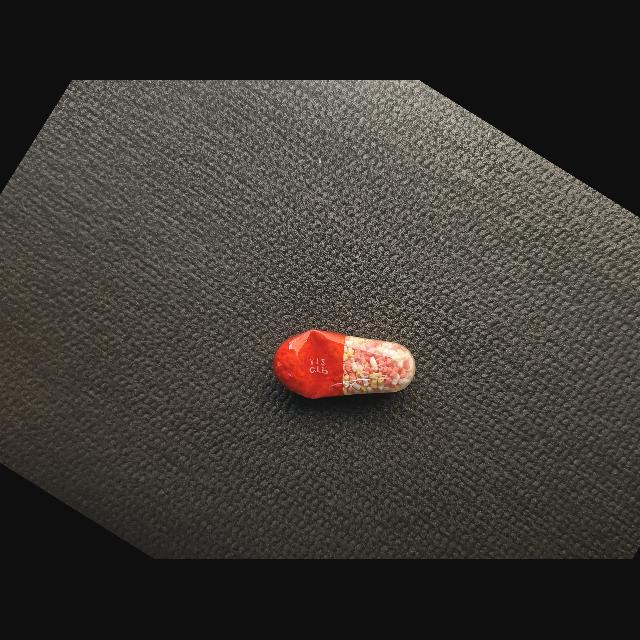Defective Capsule: (273, 330, 416, 399)
